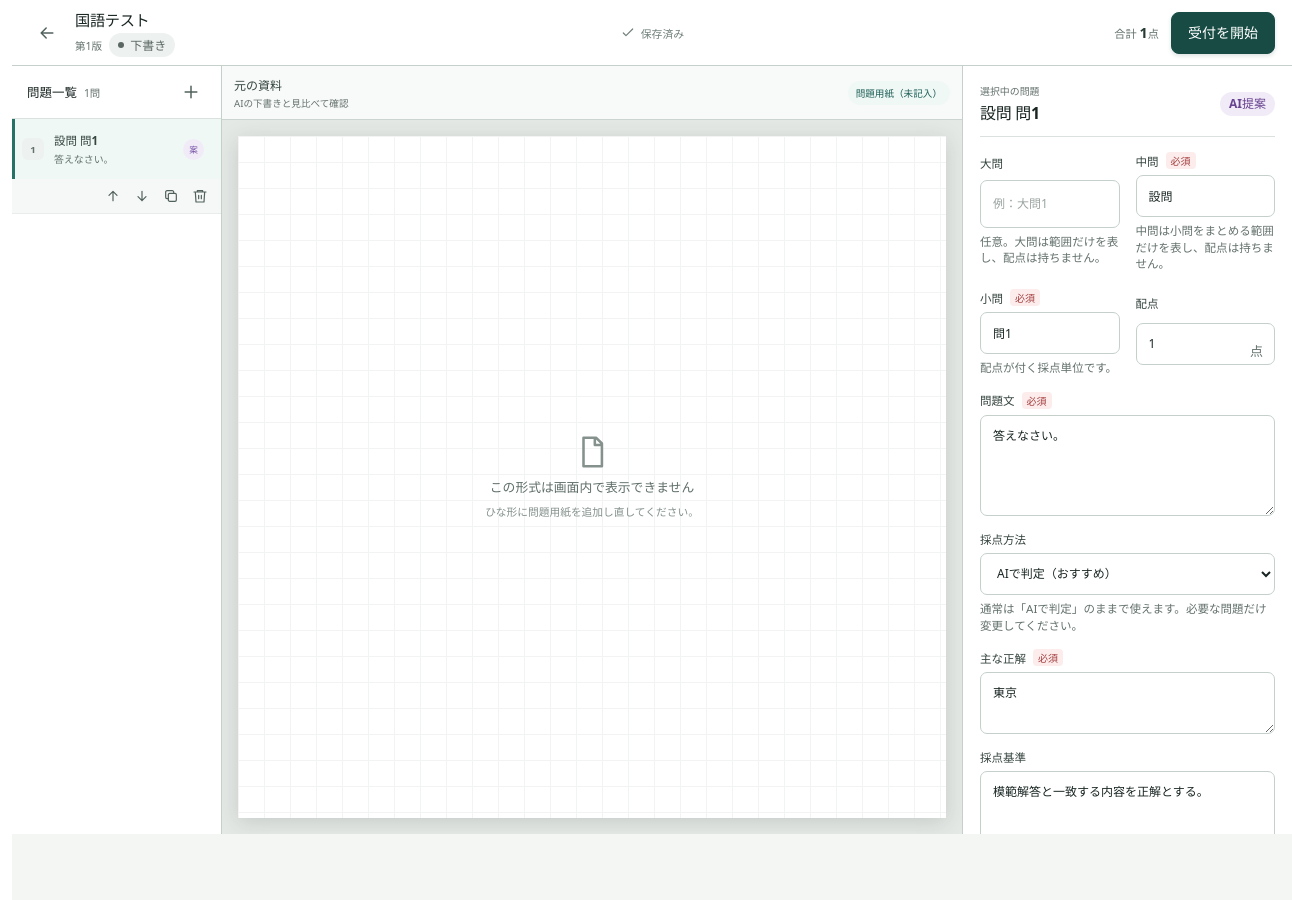
Test: TemplateEditorPage autosave and publish recovery › keeps and resaves edits typed while an older autosave is in flight
The width and height of the screenshot is (1292, 900).
Replace the text in the text box labelled "問題文 必須" with "先に送信した編集" at {"x": 1128, "y": 465}, box [980,415,1275,516]
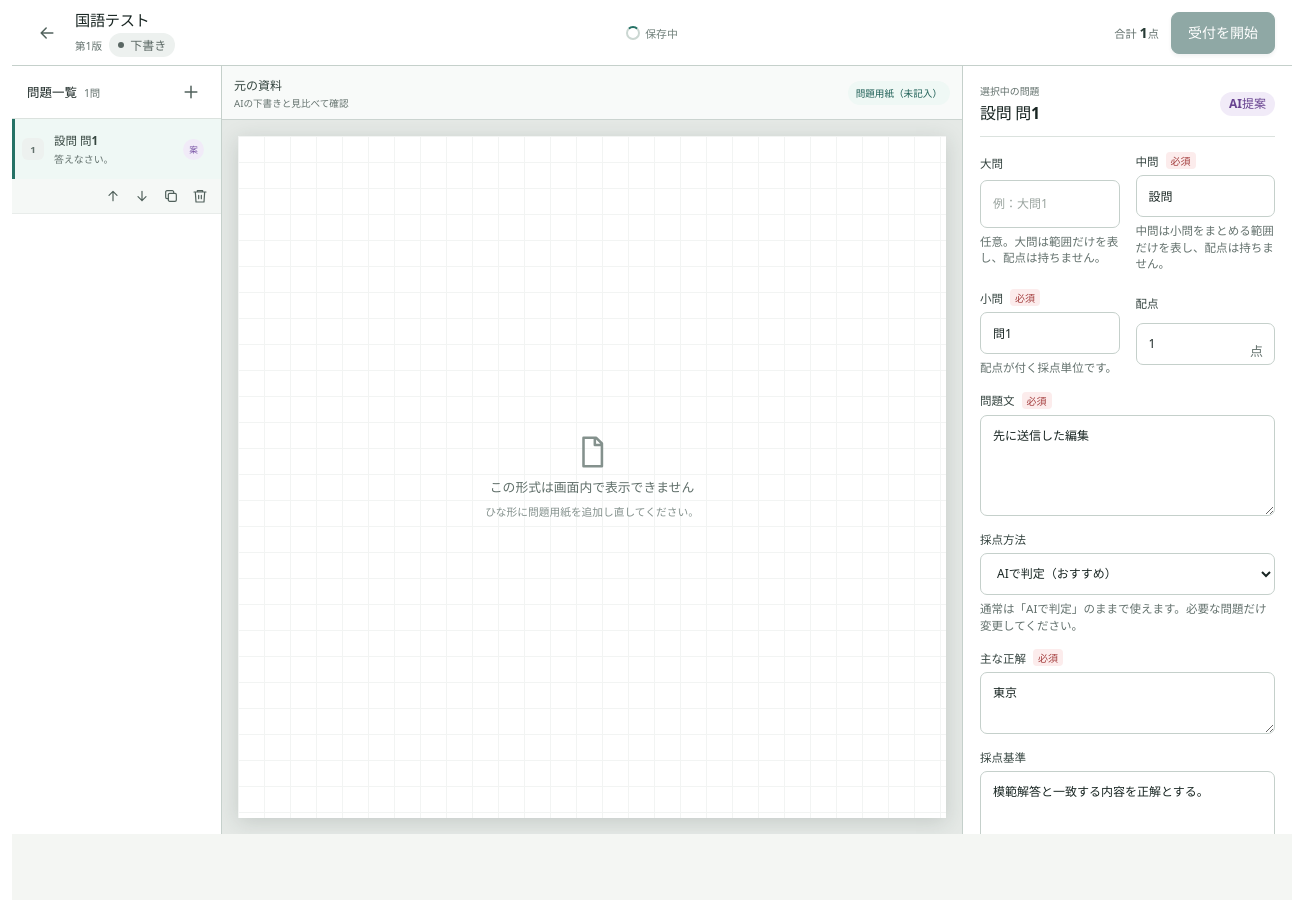
Replace the text in the text box labelled "問題文 必須" with "送信中に入力した最新の編集" at {"x": 1128, "y": 465}, box [980,415,1275,516]
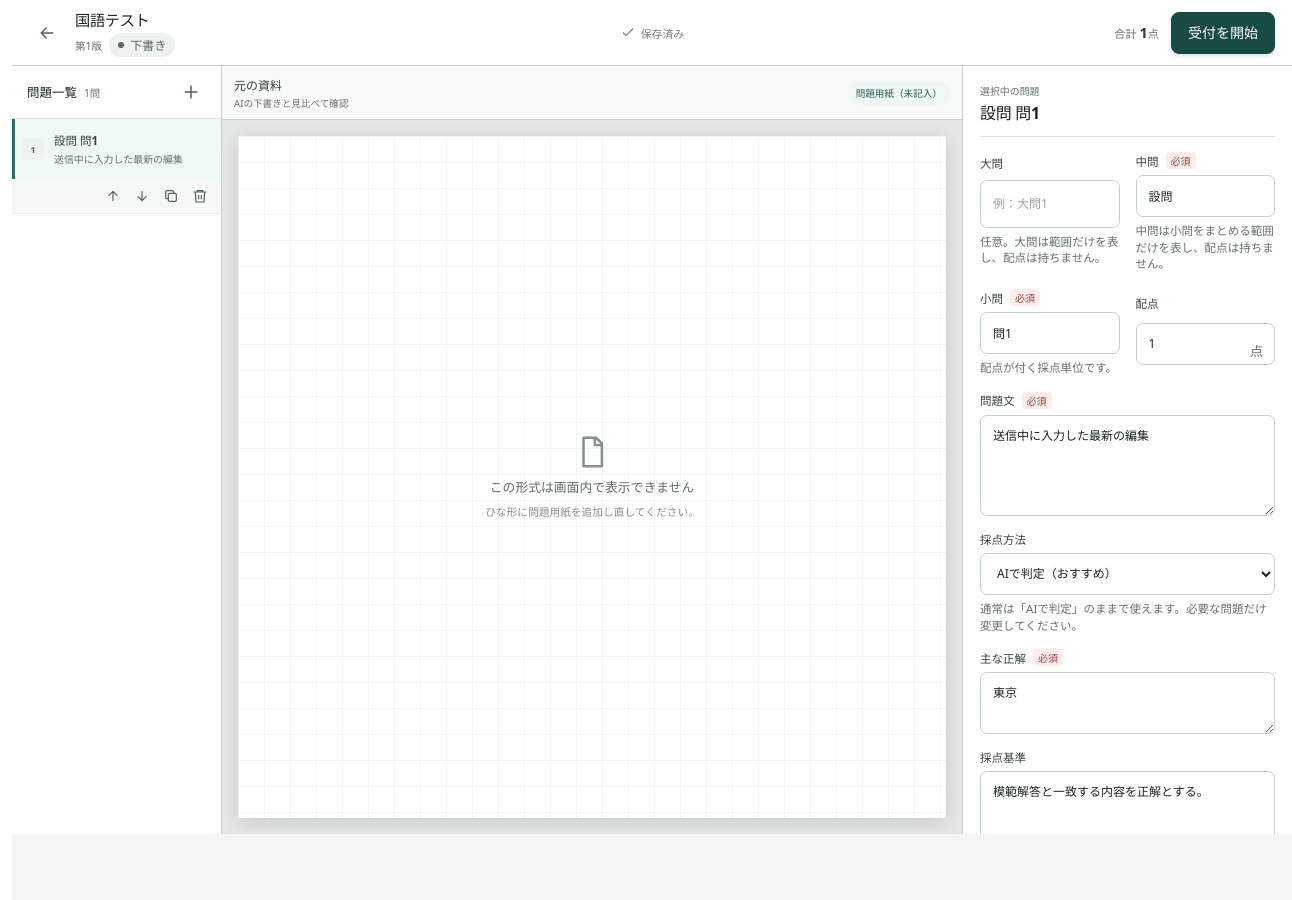
Expected: the text "保存済み" is shown, [620,24,684,40]
